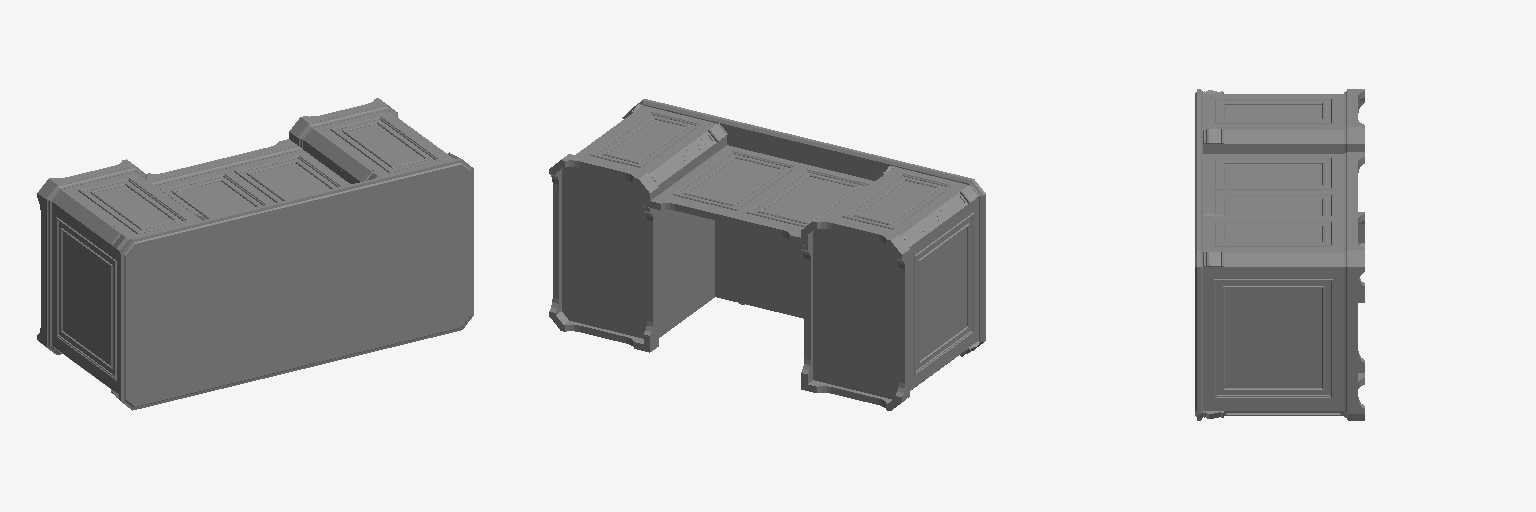
File: 10240_Office_Desk_v3_max2011.obj
3 views of the same model, side by side, from view 1: azimuth 30°, elevation 25°; view 2: azimuth 150°, elevation 25°; view 3: azimuth 270°, elevation 25° (orthographic).
Visible parts, largest first — view 1: 10240_Office_Desk_v2_Body; view 2: 10240_Office_Desk_v2_Body; view 3: 10240_Office_Desk_v2_Body.
Boxes of the visible parts, x1,y1,x2,y2 form: 10240_Office_Desk_v2_Body: [37, 98, 473, 410]; 10240_Office_Desk_v2_Body: [549, 99, 985, 410]; 10240_Office_Desk_v2_Body: [1195, 89, 1364, 420].
Bounding box in the file's own units: 185 × 87 × 77.